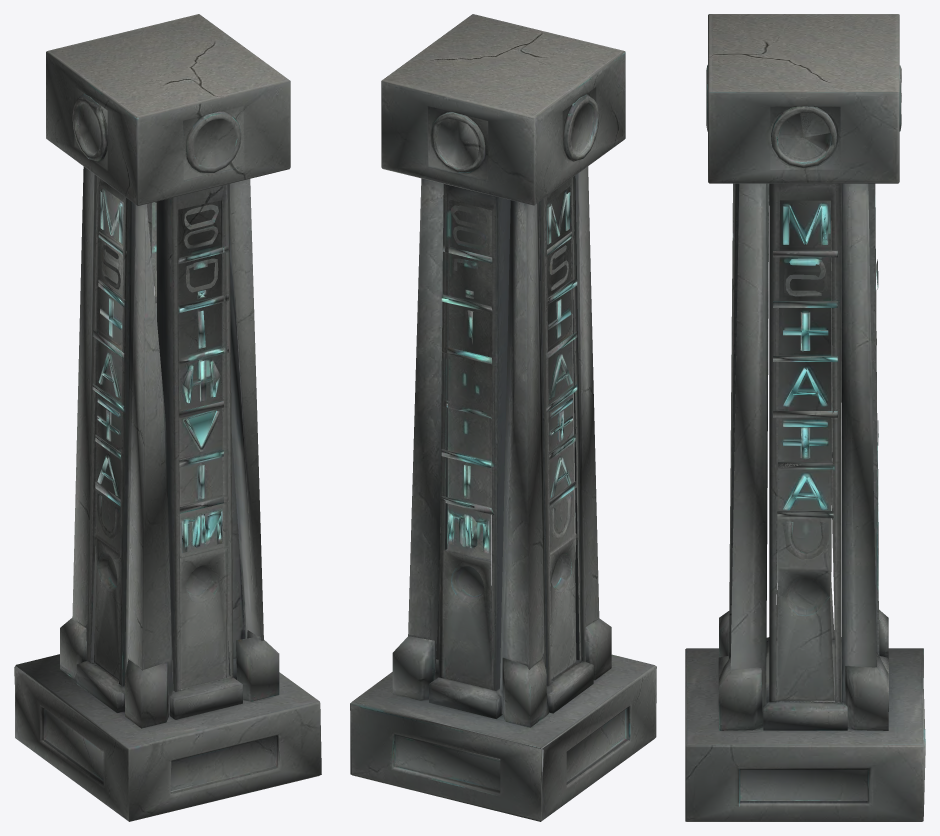
Rendered from pillar.glb.
3 views of the same model, side by side, from view 1: azimuth 30°, elevation 25°; view 2: azimuth 150°, elevation 25°; view 3: azimuth 270°, elevation 25° (orthographic). The views are drawn at different scales.
Bounding box in the file's own units: 0.2788 × 0.9517 × 0.2876.
Materials: 1 (1 with a texture image).
